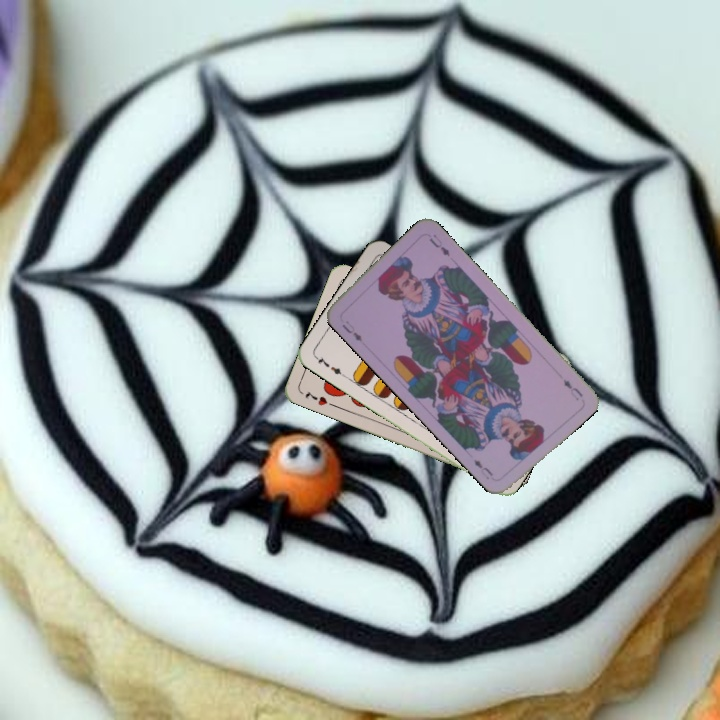E7: (311, 352, 347, 379)
EU: (338, 319, 365, 344), (559, 375, 586, 400)
H7: (301, 386, 337, 409)
